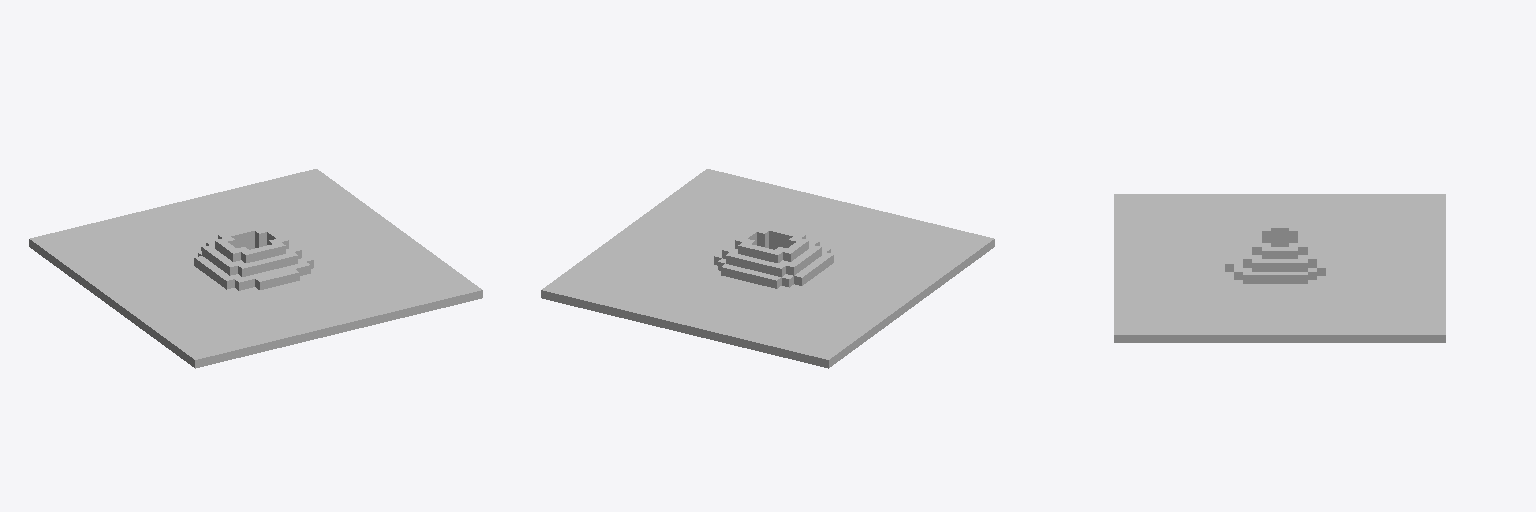
Rendered from smoketrap.obj.
3 views of the same model, side by side, from view 1: azimuth 30°, elevation 25°; view 2: azimuth 150°, elevation 25°; view 3: azimuth 270°, elevation 25° (orthographic).
Parts seen in each view (by area): view 1: Untitled; view 2: Untitled; view 3: Untitled.
Boxes of the visible parts, box(x1,y1,x2,y2) form: Untitled: box(29, 169, 482, 368); Untitled: box(541, 169, 994, 368); Untitled: box(1114, 194, 1445, 342).
Bounding box in the file's own units: 3.6 × 0.4 × 3.6.